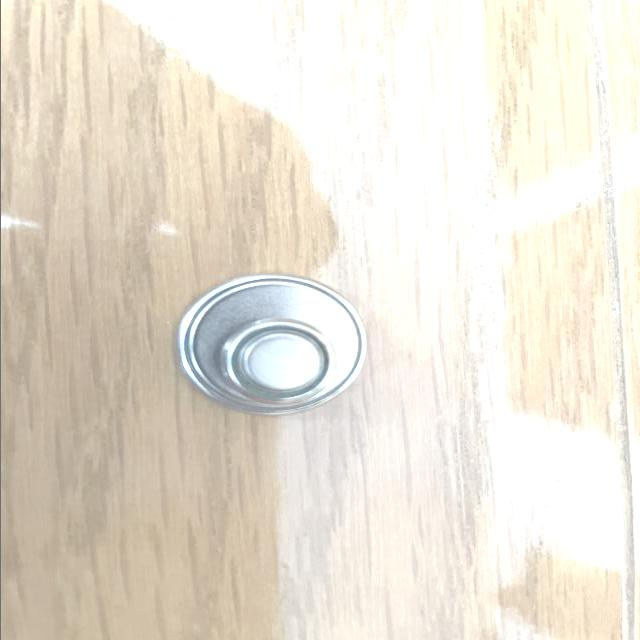COIN: (174, 271, 368, 416), (215, 318, 338, 406)
